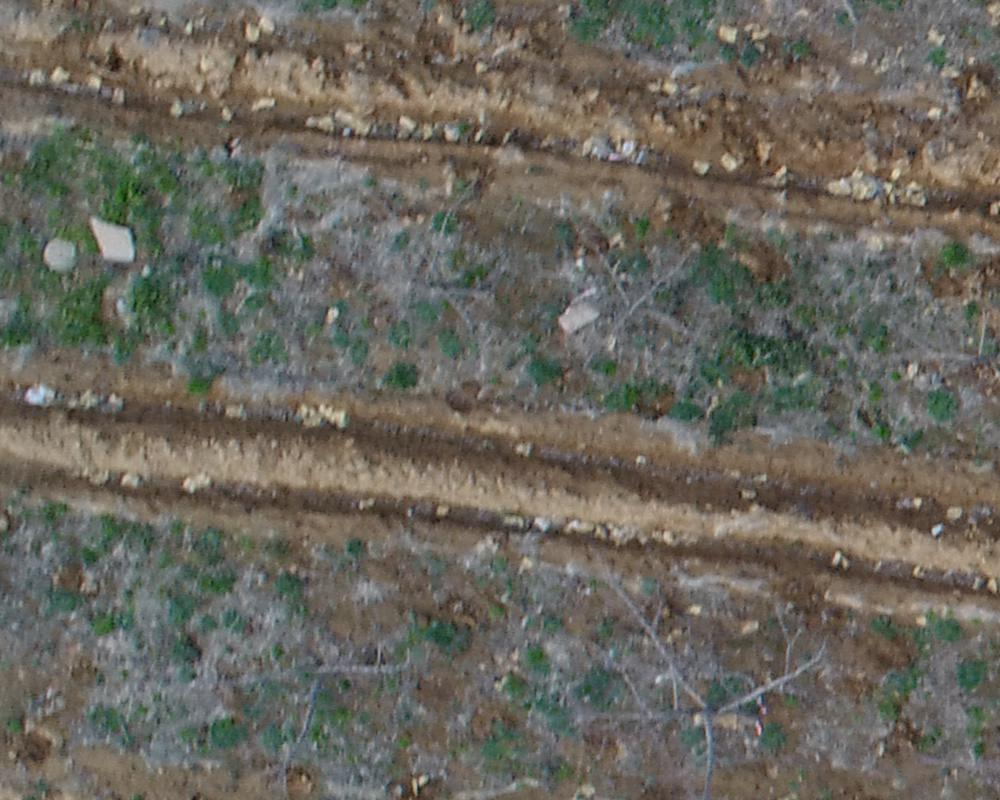apple: (523, 576, 831, 790), (327, 183, 525, 338), (562, 227, 733, 373), (875, 258, 990, 462)
